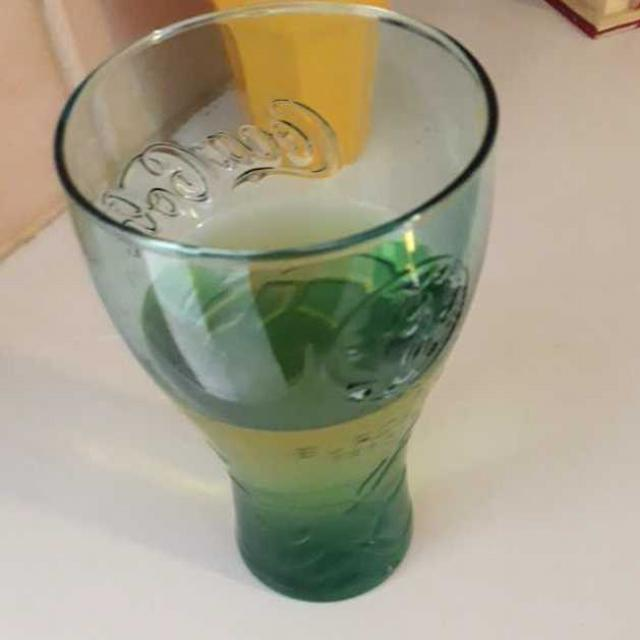juice: (114, 211, 470, 598)
